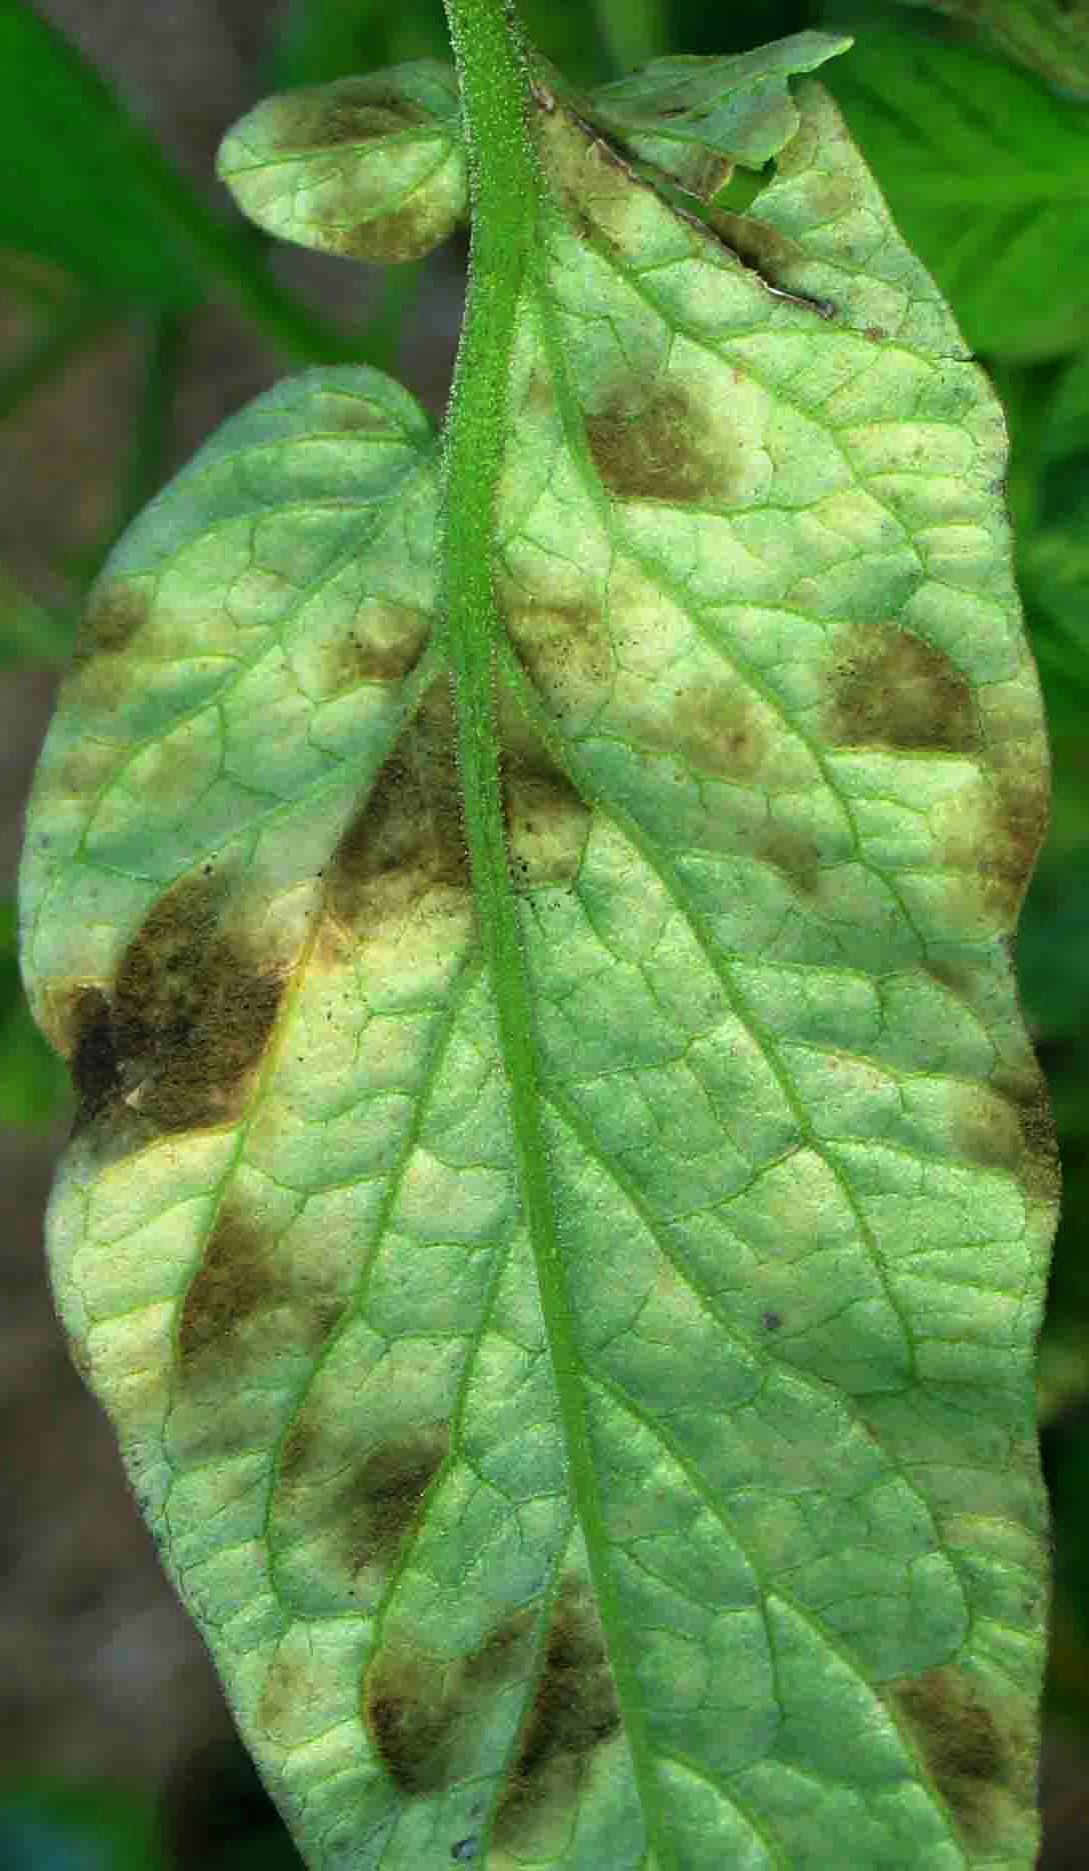Tomato mold leaf: (10, 10, 1060, 1871)
